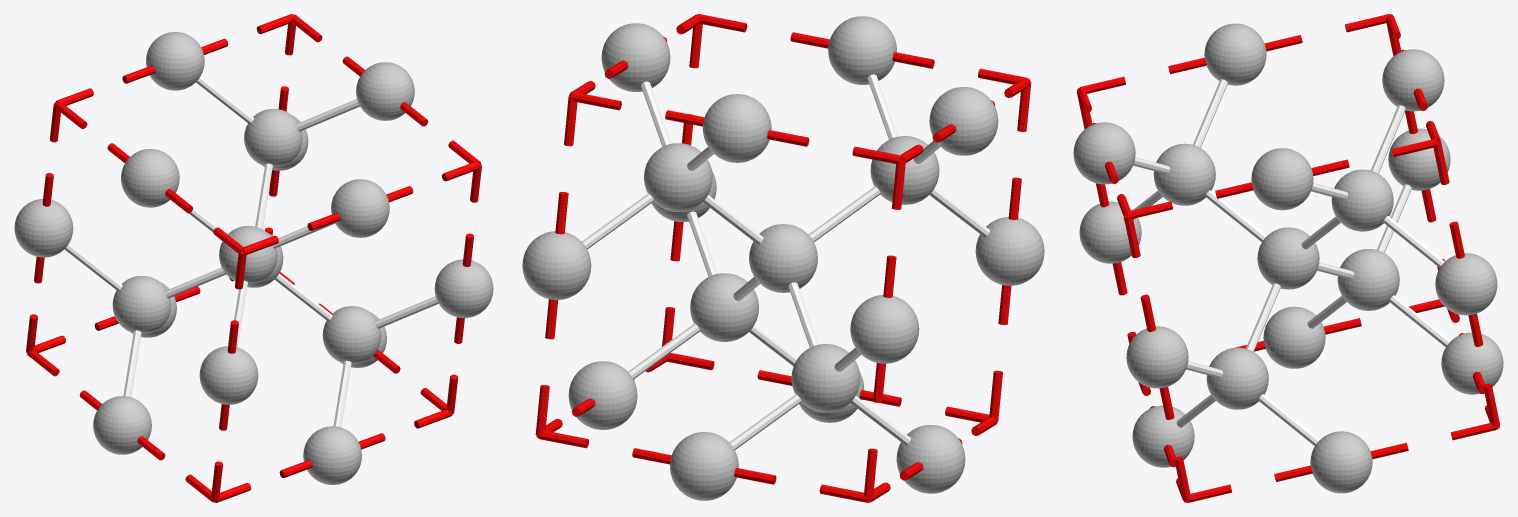
Rendered from Diamant.glb.
The picture shows the model from 3 angles, left to right: view 1: azimuth 30°, elevation 25°; view 2: azimuth 150°, elevation 25°; view 3: azimuth 270°, elevation 25°; orthographic projection. The views are drawn at different scales.
Visible parts, largest first — view 1: Atom.14, Atom.13, Atom.7, Atom.12, Atom.9, Atom.8, Atom.18, Atom.5, Atom.17, Atom.20, Atom.19, Atom.10 (+10 smaller); view 2: Atom.13, Atom.11, Atom.8, Atom.6, Atom.14, Atom.9, Atom.21, Atom.10, Atom.5, Atom.20, Atom.19, Atom.16 (+16 smaller); view 3: Atom.16, Atom.17, Atom.19, Atom.11, Atom.12, Atom.18, Atom.21, Atom.20, Atom.5, Atom.15, Atom.10, Atom.9 (+13 smaller).
Part boxes in pixels (x1,y1,x2,y2): Atom.14: [199, 346, 258, 404]; Atom.13: [14, 199, 73, 257]; Atom.7: [303, 426, 361, 484]; Atom.12: [434, 259, 493, 317]; Atom.9: [331, 179, 389, 237]; Atom.8: [146, 32, 204, 90]; Atom.18: [93, 396, 151, 454]; Atom.5: [244, 109, 302, 167]; Atom.17: [356, 62, 414, 120]; Atom.20: [322, 306, 381, 364]; Atom.19: [121, 149, 179, 207]; Atom.10: [112, 276, 171, 334]; Atom.13: [850, 295, 919, 363]; Atom.11: [522, 231, 591, 299]; Atom.8: [702, 94, 771, 162]; Atom.6: [670, 432, 738, 500]; Atom.14: [975, 217, 1044, 285]; Atom.9: [828, 16, 896, 84]; Atom.21: [749, 224, 817, 292]; Atom.10: [791, 344, 860, 412]; Atom.5: [644, 143, 712, 211]; Atom.20: [690, 273, 758, 341]; Atom.19: [929, 87, 998, 155]; Atom.16: [568, 361, 637, 429]; Atom.16: [1310, 431, 1372, 493]; Atom.17: [1251, 148, 1313, 210]; Atom.19: [1204, 23, 1266, 85]; Atom.11: [1435, 253, 1497, 315]; Atom.12: [1126, 326, 1188, 388]; Atom.18: [1263, 306, 1325, 368]; Atom.21: [1257, 227, 1319, 289]; Atom.20: [1206, 347, 1268, 409]; Atom.5: [1331, 169, 1393, 231]; Atom.15: [1153, 143, 1215, 205]; Atom.10: [1337, 249, 1399, 310]; Atom.9: [1073, 122, 1135, 184].
Size of the model in its own units: 4.77 by 4.87 by 4.84.
